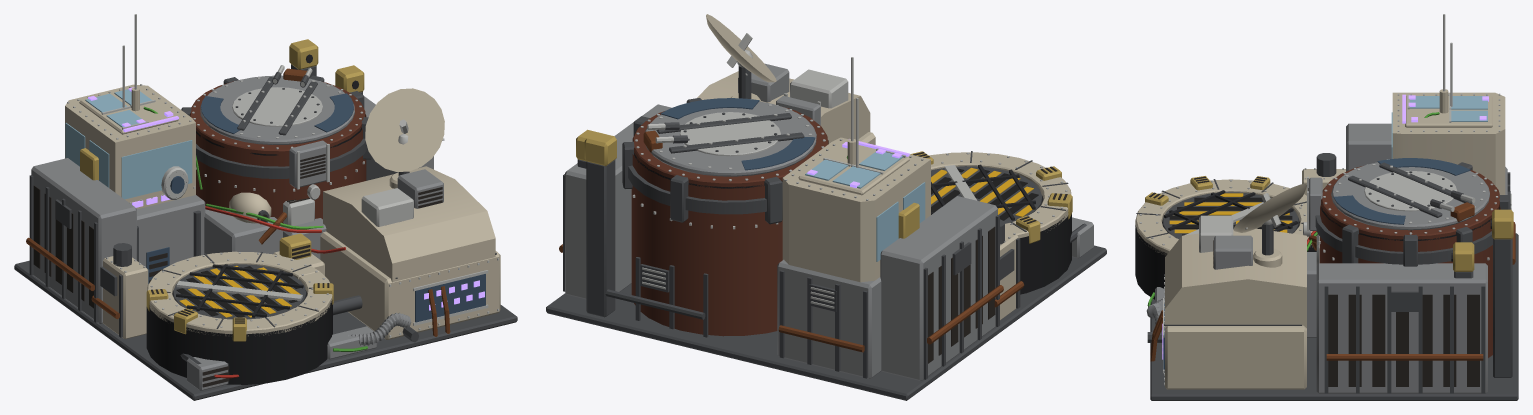
Rendered from space-platform-hub.glb.
3 renders of one model, left to right at view 1: azimuth 30°, elevation 25°; view 2: azimuth 150°, elevation 25°; view 3: azimuth 270°, elevation 25°, orthographic. The views are drawn at different scales.
Parts seen in each view (by area): view 1: body, anim_lid_hub_upper, anim_lid_hub_lower_sw, anim_lid_hub_lower_ne, anim_glow_cockpit; view 2: body, anim_lid_hub_upper, anim_lid_hub_lower_sw, anim_lid_hub_lower_ne; view 3: body, anim_lid_hub_upper, anim_lid_hub_lower_sw, anim_lid_hub_lower_ne.
Part boxes in pixels (x1,y1,x2,y2): body: [14, 14, 517, 400]; anim_lid_hub_upper: [200, 65, 354, 144]; anim_lid_hub_lower_sw: [173, 283, 303, 319]; anim_lid_hub_lower_ne: [176, 264, 306, 299]; anim_glow_cockpit: [88, 87, 178, 207]; body: [546, 14, 1106, 400]; anim_lid_hub_upper: [643, 98, 816, 176]; anim_lid_hub_lower_sw: [950, 164, 1042, 223]; anim_lid_hub_lower_ne: [931, 165, 970, 214]; body: [1135, 14, 1518, 400]; anim_lid_hub_upper: [1331, 158, 1489, 230]; anim_lid_hub_lower_sw: [1163, 190, 1271, 238]; anim_lid_hub_lower_ne: [1195, 208, 1298, 233].
Size of the model in its own units: 7.35 by 5.49 by 7.12.
